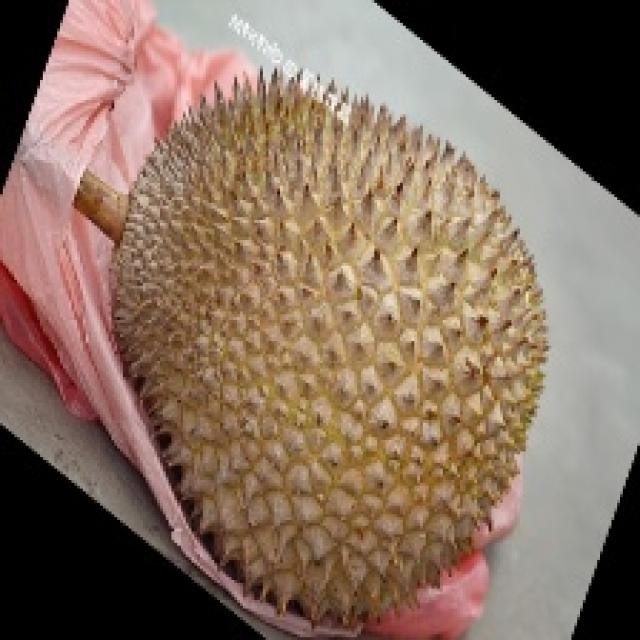d175: (100, 68, 549, 626)
